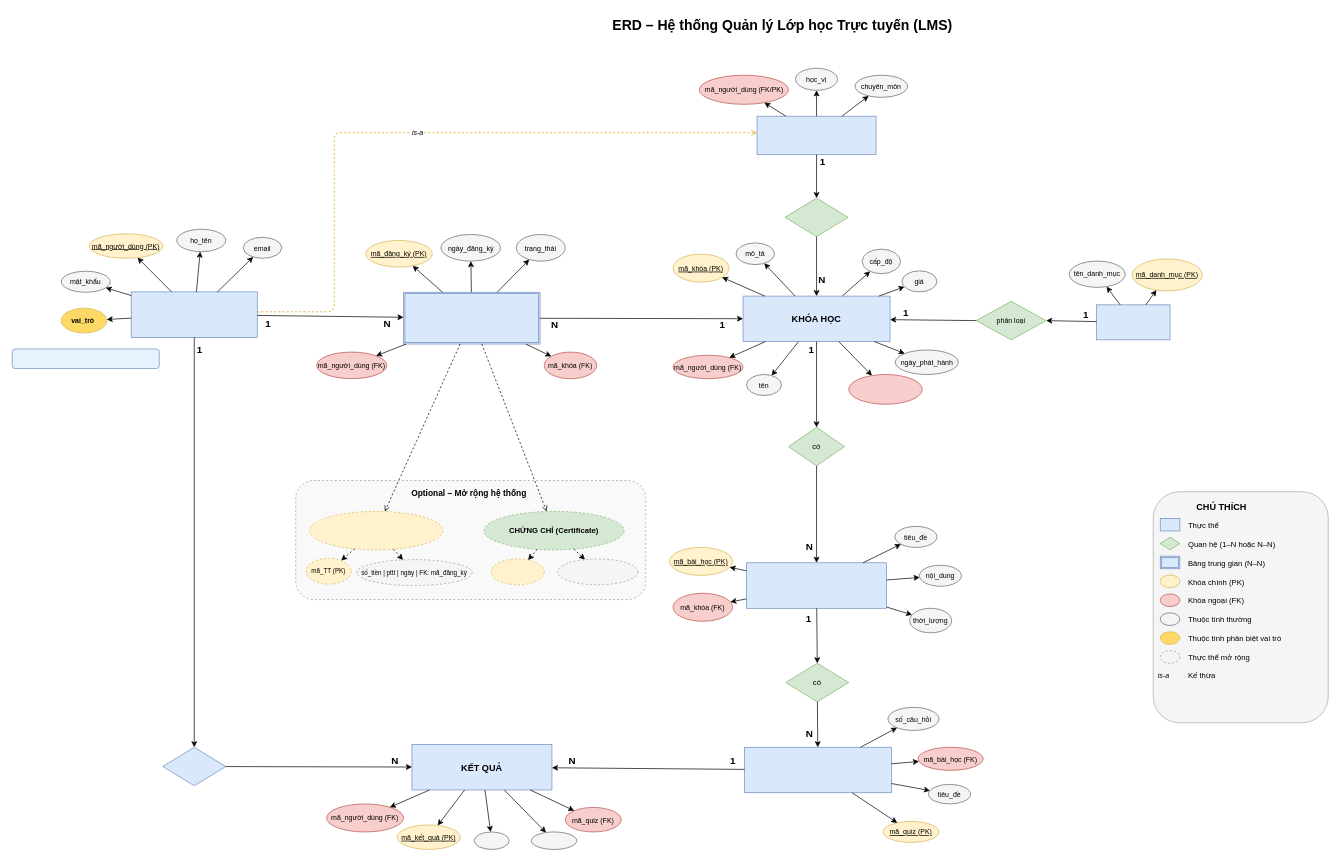
Some shapes in this 1341 by 862 pixel diagram are drawn without their labels. Here are the shapes that lost their labels. From the top down, the centre of each, then its label:
At pixel 816 135: "GIẢNG VIÊN".
At pixel 816 217: "dạy".
At pixel 194 314: "NGƯỜI DÙNG".
At pixel 471 318: "ĐĂNG KÝ HỌC (Enrollment)".
At pixel 1133 322: "DANH MỤC".
At pixel 85 358: "vai_trò: student | instructor | admin".
At pixel 885 389: "mã_danh_mục (FK)".
At pixel 376 530: "THANH TOÁN (Payment)".
At pixel 517 571: "mã_CC (PK)".
At pixel 597 571: "ngày_cấp | hạng | FK: mã_đăng_ký".
At pixel 816 585: "BÀI HỌC (Lesson)".
At pixel 194 766: "làm".
At pixel 817 770: "BÀI KIỂM TRA".
At pixel 491 840: "điểm".
At pixel 554 840: "ngày_làm".
